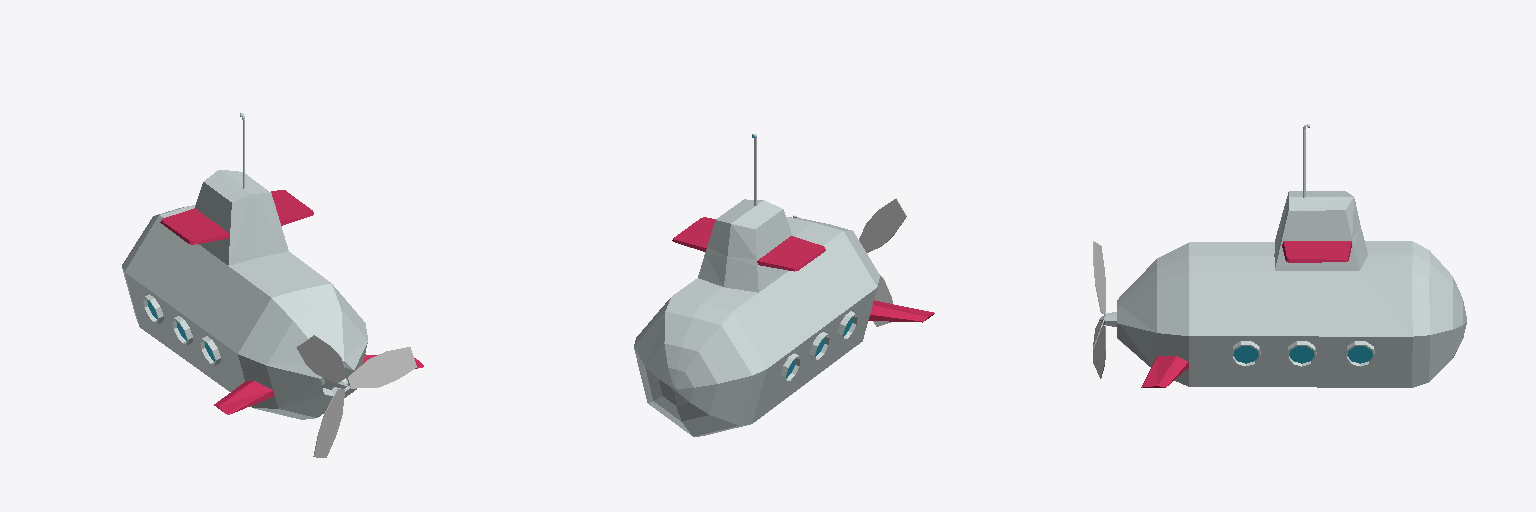
File: Submarine.obj
3 views of the same model, side by side, from view 1: azimuth 30°, elevation 25°; view 2: azimuth 150°, elevation 25°; view 3: azimuth 270°, elevation 25° (orthographic).
Parts seen in each view (by area): view 1: Body, Cube:2, Cube:1, Cube:0; view 2: Body, Cube:1; view 3: Body, Cube:1, Cylinder.1, Cylinder.3, Cylinder.2, Cube:0.
Part boxes in pixels (bbox=[...]): Body: bbox=[122, 170, 423, 419]; Cube:2: bbox=[347, 347, 416, 388]; Cube:1: bbox=[296, 335, 346, 383]; Cube:0: bbox=[313, 389, 344, 457]; Body: bbox=[634, 199, 934, 436]; Cube:1: bbox=[859, 198, 906, 252]; Body: bbox=[1099, 191, 1466, 387]; Cube:1: bbox=[1093, 241, 1105, 314]; Cylinder.1: bbox=[1231, 341, 1260, 367]; Cylinder.3: bbox=[1345, 341, 1374, 367]; Cylinder.2: bbox=[1287, 341, 1316, 367]; Cube:0: bbox=[1093, 321, 1105, 378].
Size of the model in its own units: 148 by 188 by 242.